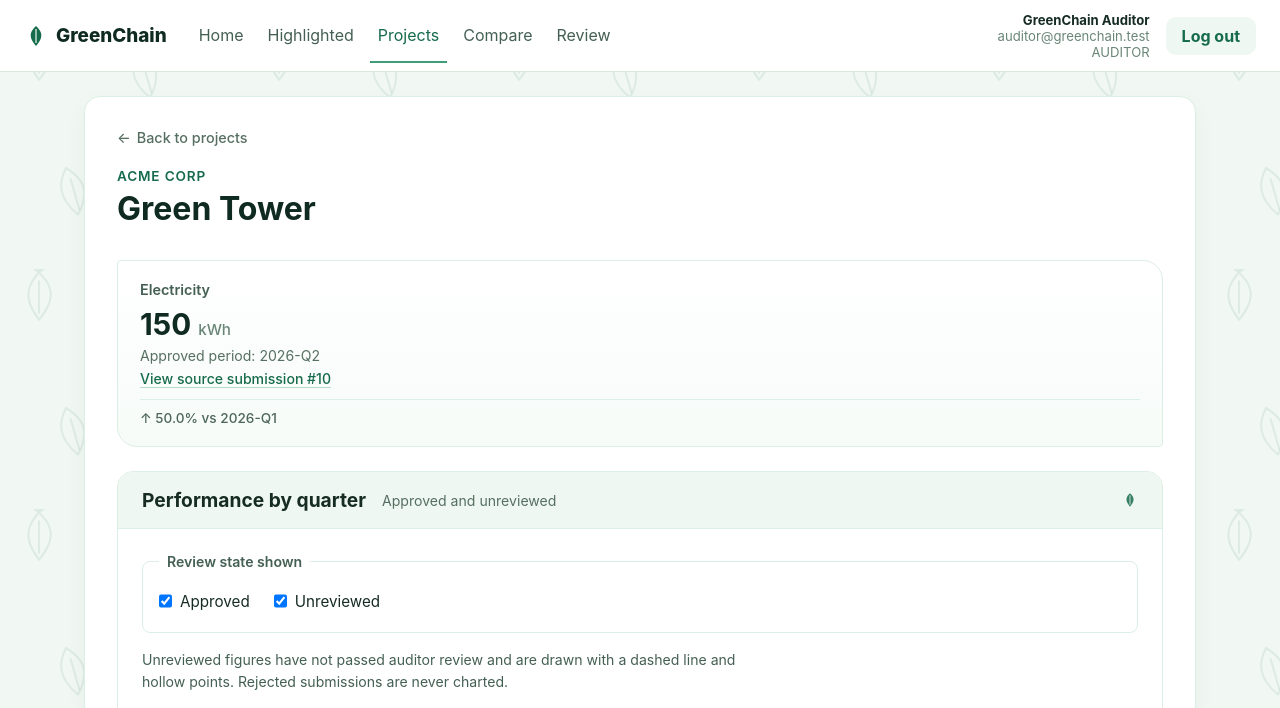
Test: project detail page › review-state selector controls what is requested and how it is drawn
Check: the heading "Performance by quarter" is shown, box [142,488,366,512]
Check: the checkbox labelled "Approved" is checked, box [159,578,172,624]
Click the checkbox labelled "Unreviewed" at (280, 601), box [274,578,287,624]
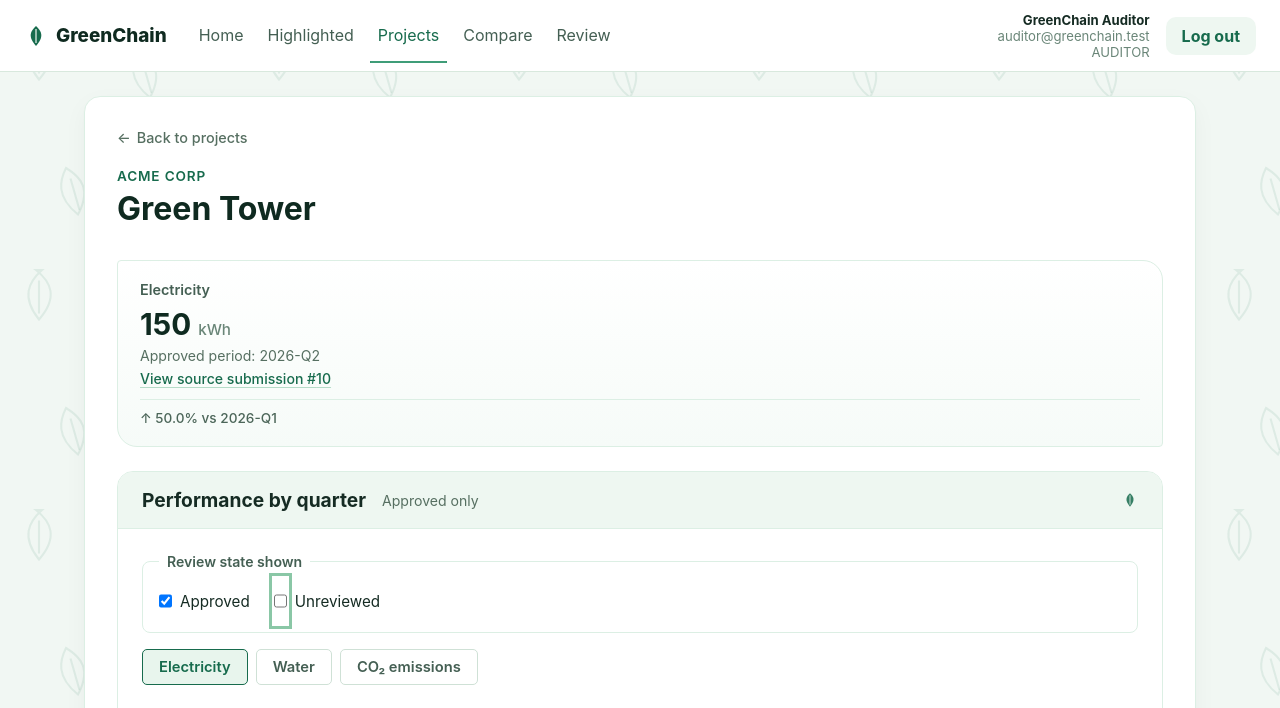
Check: the text "drawn with a dashed line" is gone
Click the checkbox labelled "Approved" at (166, 601), box [159,578,172,624]
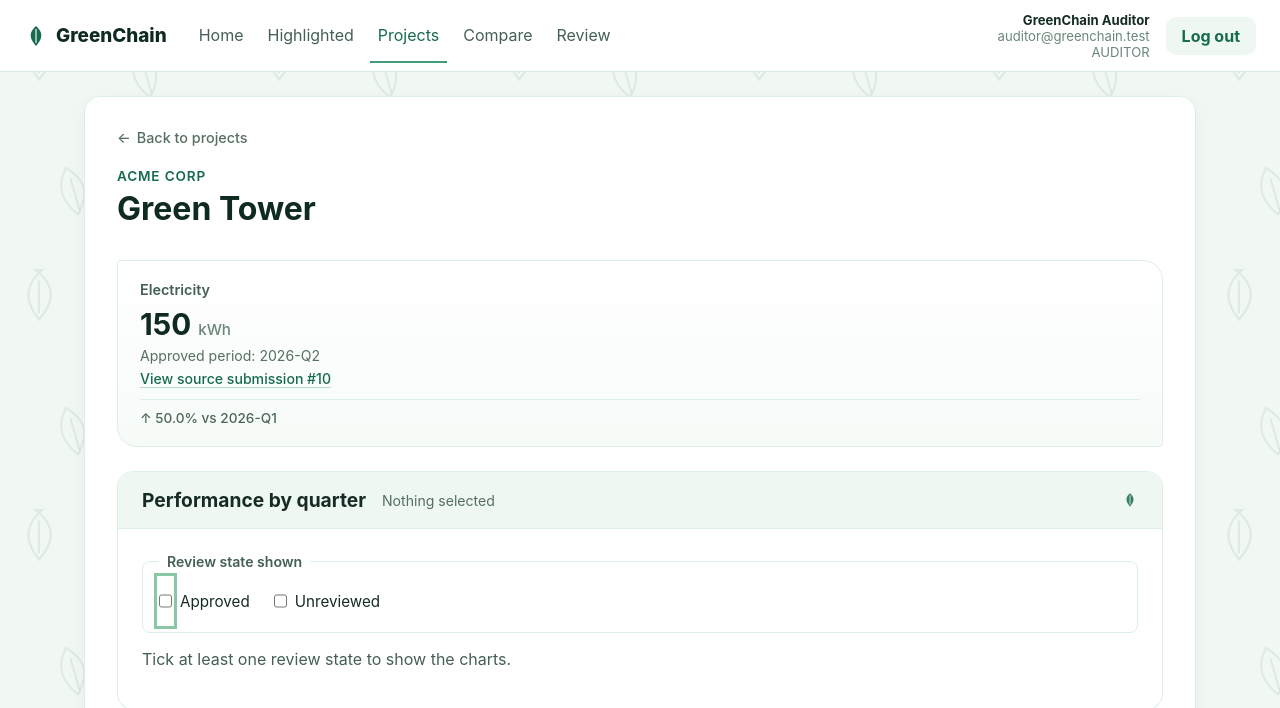
Check: the text "Tick at least one review state to show the charts." is shown, box [142,649,511,669]
